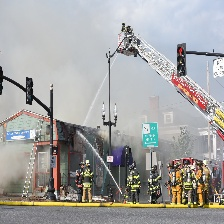smoke: (4, 1, 114, 120), (1, 140, 27, 186)
